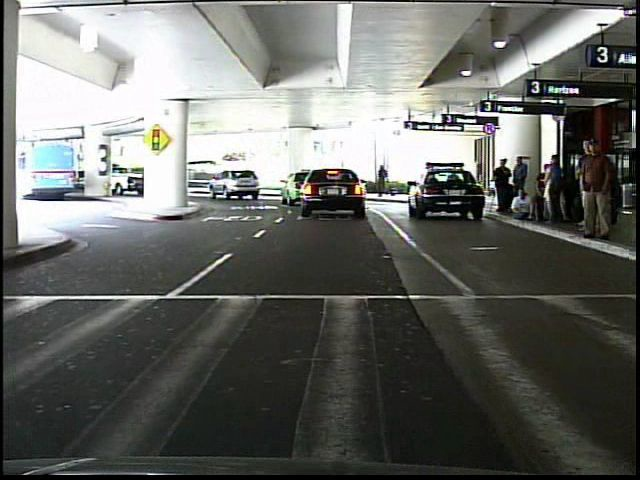person: (578, 135, 617, 244), (490, 157, 513, 214), (509, 153, 531, 194), (375, 163, 390, 198)
